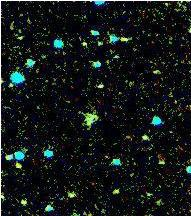star: (105, 173, 135, 203)
